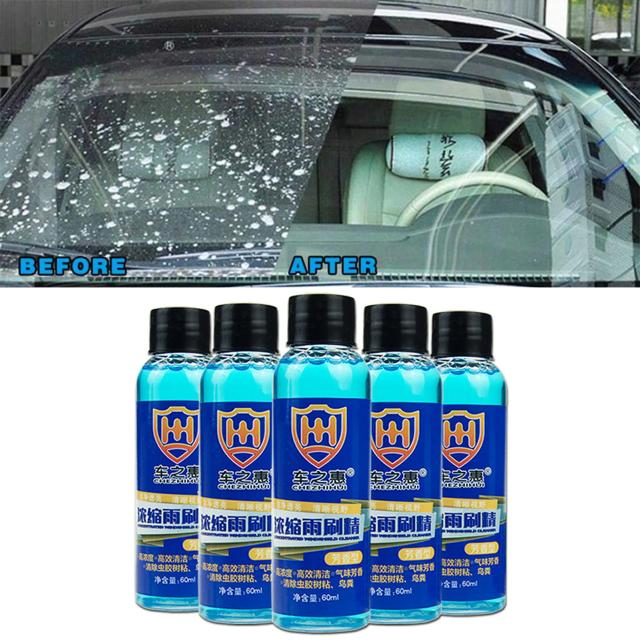winwinshield_washer: (273, 291, 370, 633), (202, 303, 276, 624), (368, 299, 439, 625), (442, 306, 512, 620), (136, 302, 196, 616)
